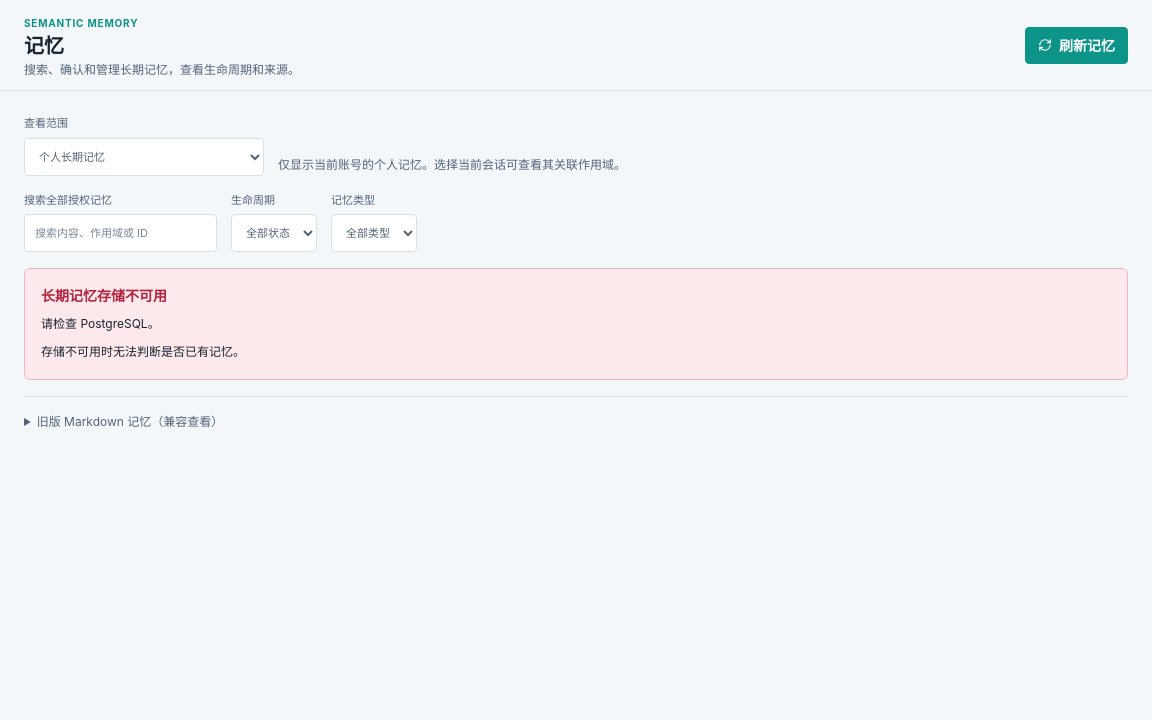
Scenario: semantic memory console › distinguishes unavailable storage from an empty memory set and can refresh
Expected: the message shows "长期记忆存储不可用", [41,287,167,304]
Expected: the text "暂无长期记忆" is not shown
Click the button "刷新记忆": [1076, 45] box [1025,26,1128,64]
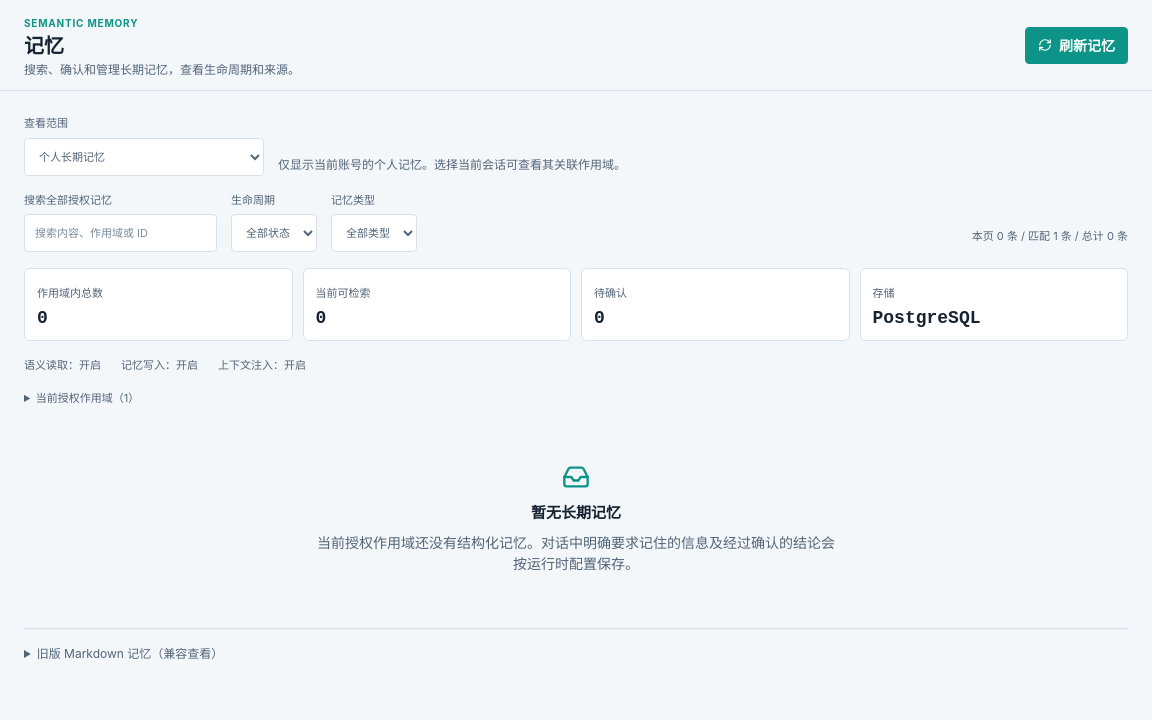
Result: the heading "暂无长期记忆" is shown at [531,502,621,524]
Result: the message "长期记忆存储不可用 请检查 PostgreSQL。 存储不可用时无法判断是否已有记忆。" is gone
